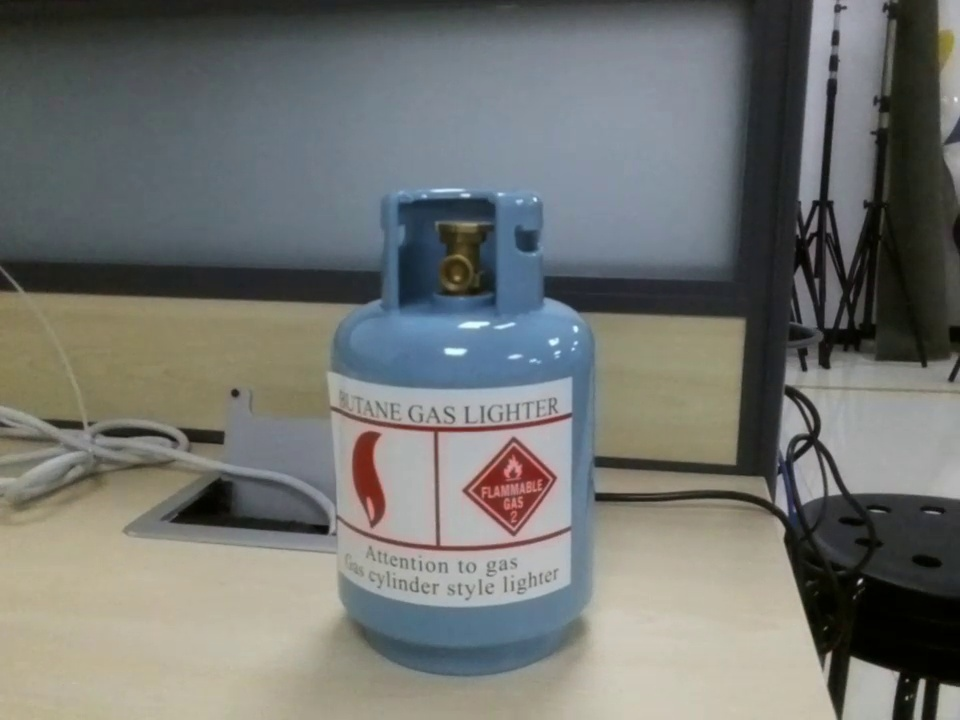gas tank: (324, 177, 599, 684)
